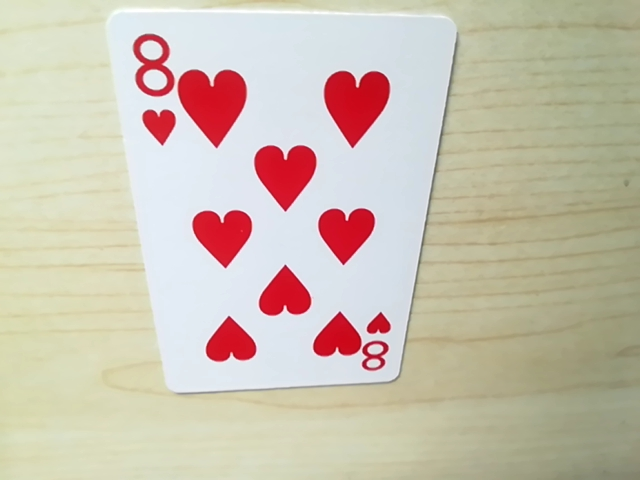hx 8: (123, 23, 175, 154), (352, 329, 397, 376)
